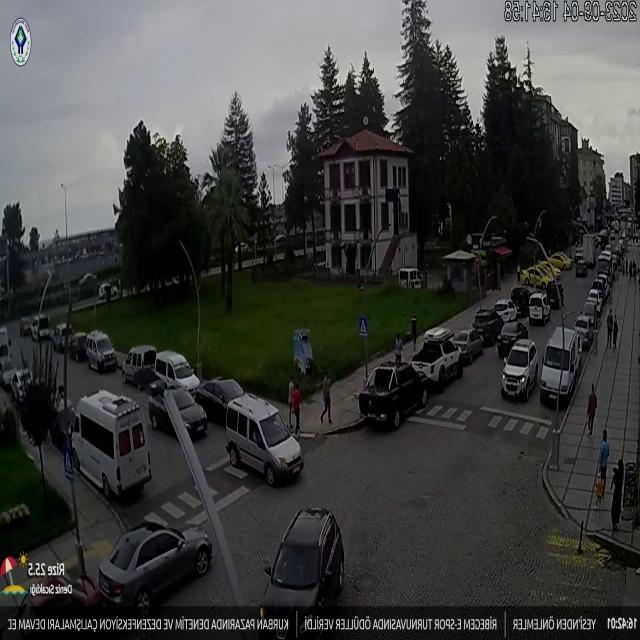Car: (259, 503, 349, 626), (97, 521, 209, 608), (354, 362, 429, 428), (410, 325, 468, 385), (145, 390, 210, 441), (501, 337, 537, 404), (199, 377, 244, 423), (157, 349, 199, 391), (85, 330, 119, 372), (118, 344, 157, 378), (471, 310, 503, 344), (498, 320, 525, 354), (455, 327, 481, 362), (572, 315, 594, 345), (495, 301, 519, 324), (587, 288, 604, 312)
Truck: (65, 389, 155, 495)
Van: (216, 396, 312, 486), (537, 329, 582, 408), (527, 293, 551, 325)
